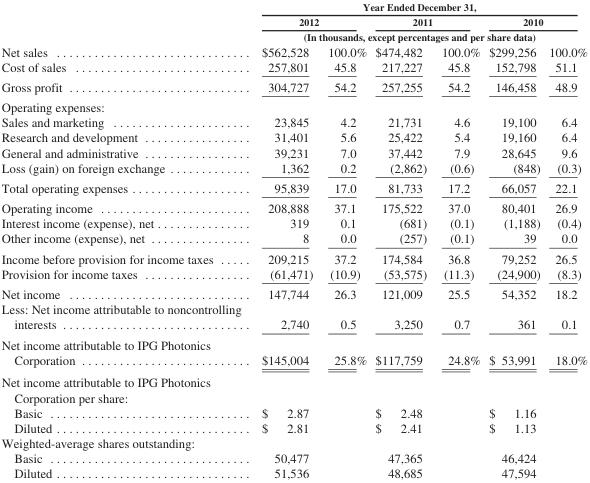table: (0, 0, 587, 480)
table column: (0, 0, 250, 480), (250, 0, 319, 480), (370, 0, 433, 480), (484, 0, 543, 480), (319, 0, 370, 480), (433, 0, 484, 480), (543, 0, 587, 480)
table column header: (0, 0, 587, 58)
table projected row header: (0, 370, 587, 404), (0, 96, 587, 114), (0, 435, 587, 450)
table row: (0, 334, 587, 370), (0, 370, 587, 404), (0, 301, 587, 334), (0, 76, 587, 96), (0, 177, 587, 197), (0, 58, 587, 76), (0, 96, 587, 114), (0, 159, 587, 177), (0, 197, 587, 215), (0, 230, 587, 248), (0, 265, 587, 283), (0, 283, 587, 301), (0, 248, 587, 265), (0, 419, 587, 435), (0, 14, 587, 29), (0, 43, 587, 58), (0, 114, 587, 129), (0, 129, 587, 144), (0, 144, 587, 159), (0, 215, 587, 230), (0, 404, 587, 419), (0, 435, 587, 450), (0, 450, 587, 465), (0, 465, 587, 480), (0, 0, 587, 14), (0, 29, 587, 43)
table spanning cell: (0, 0, 250, 58), (250, 0, 587, 14), (250, 29, 587, 43), (250, 14, 370, 29), (370, 14, 484, 29), (484, 14, 587, 29)
